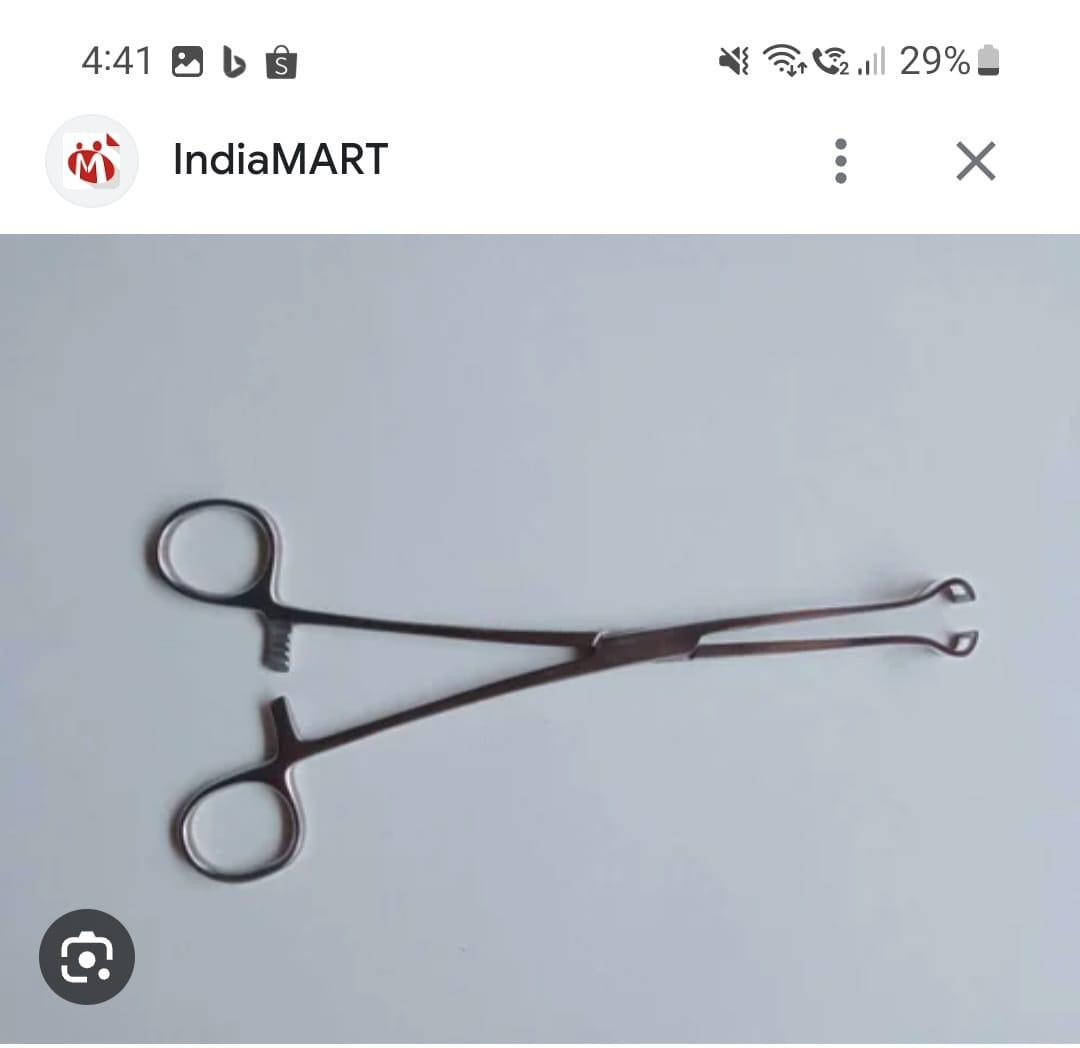Babcock Forceps: (140, 477, 998, 885)
